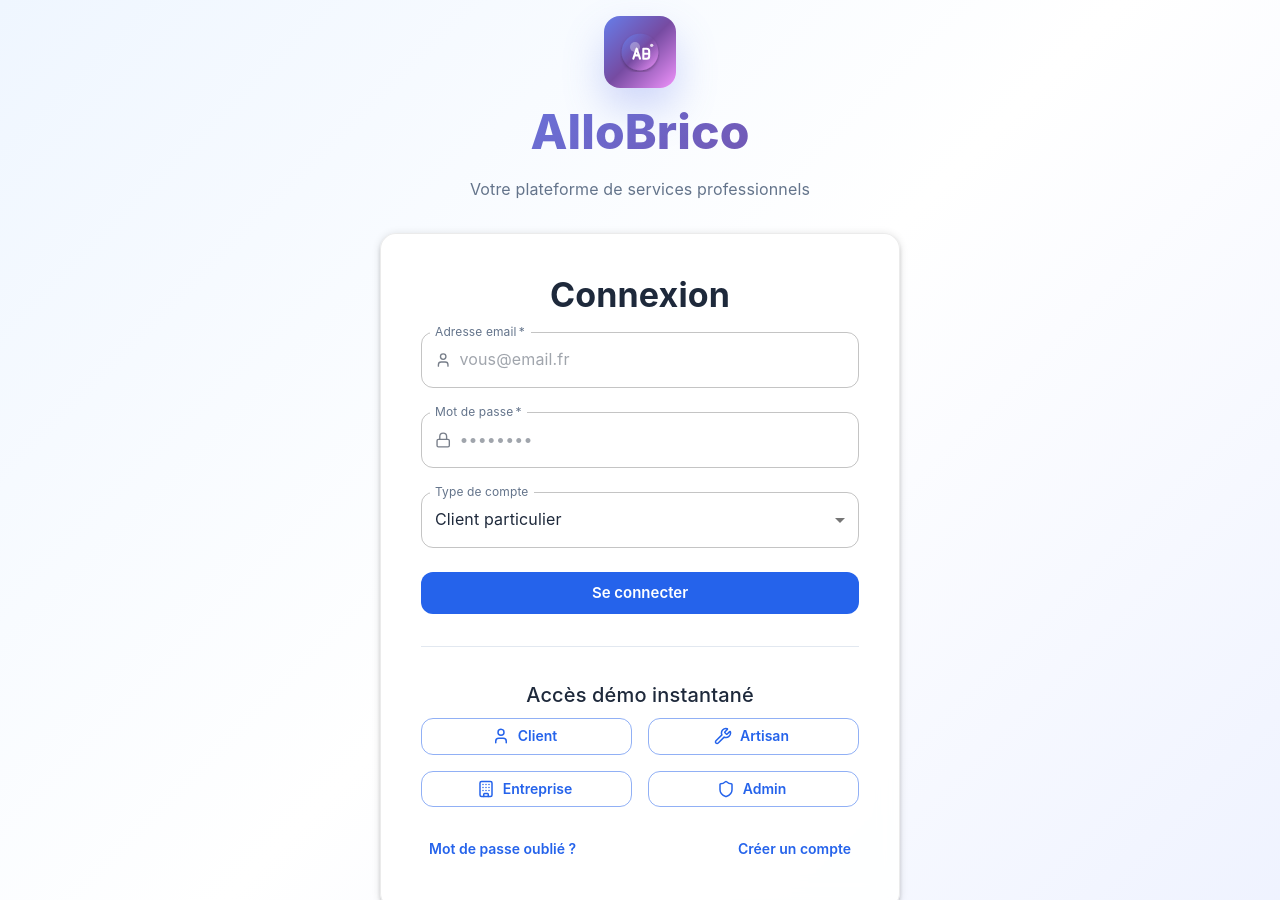
Test case: Complete Worker-Client Workflow Integration › Authentication Flow › demo login works for different user types
Click worker demo login
Click the button "Artisan" at {"x": 754, "y": 736}, box x1=648 y1=718 x2=859 y2=754
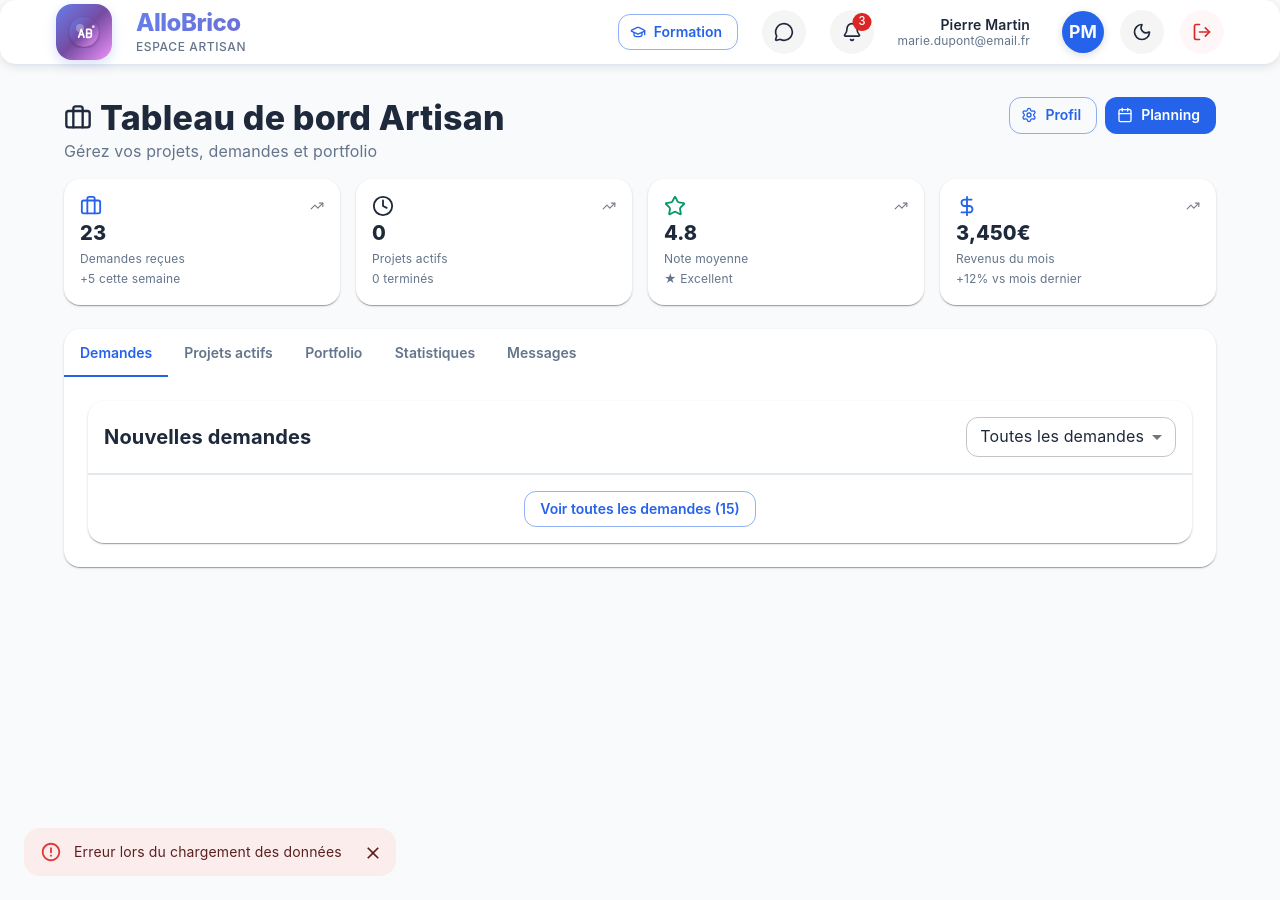
Check: the text "Espace Artisan" is shown, box x1=136 y1=39 x2=246 y2=54
